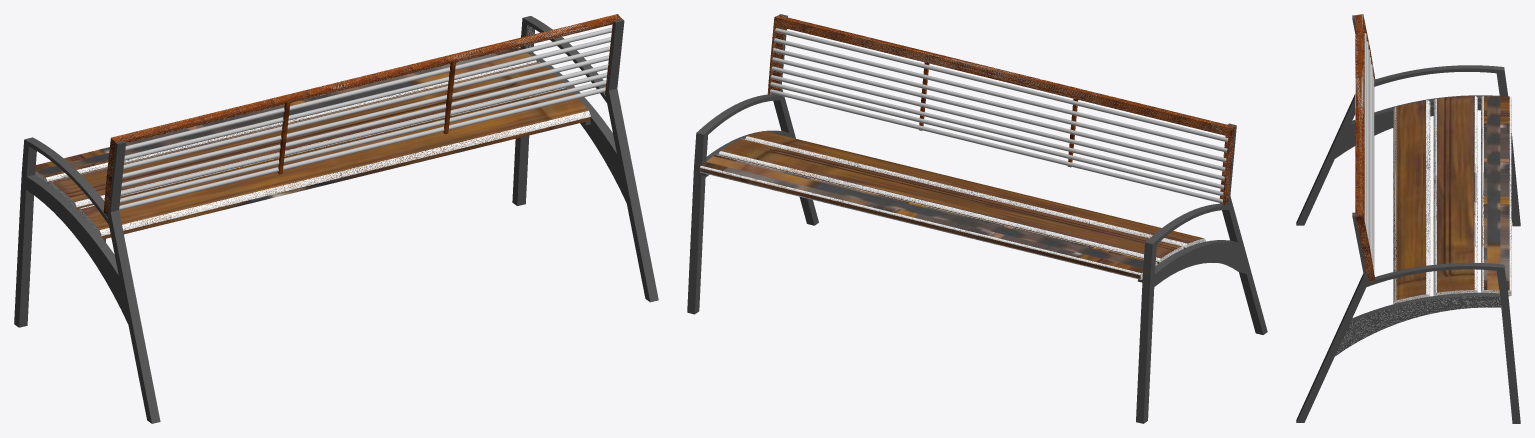
The picture shows the model from 3 angles, left to right: view 1: azimuth 30°, elevation 25°; view 2: azimuth 150°, elevation 25°; view 3: azimuth 270°, elevation 25°; orthographic projection. The views are drawn at different scales.
Visible parts, largest first — view 1: mesh5_mesh5-geometry, mesh2_mesh2-geometry, mesh1_mesh1-geometry; view 2: mesh5_mesh5-geometry, mesh2_mesh2-geometry; view 3: mesh5_mesh5-geometry, mesh2_mesh2-geometry.
Part boxes in pixels (x1,y1,x2,y2): mesh5_mesh5-geometry: (14, 14, 658, 423); mesh2_mesh2-geometry: (119, 27, 612, 210); mesh1_mesh1-geometry: (278, 61, 455, 174); mesh5_mesh5-geometry: (687, 14, 1267, 423); mesh2_mesh2-geometry: (770, 28, 1228, 203); mesh5_mesh5-geometry: (1296, 14, 1520, 423); mesh2_mesh2-geometry: (1364, 33, 1374, 272).
Bounding box in the file's own units: 0.8282 × 0.402 × 0.3904.
